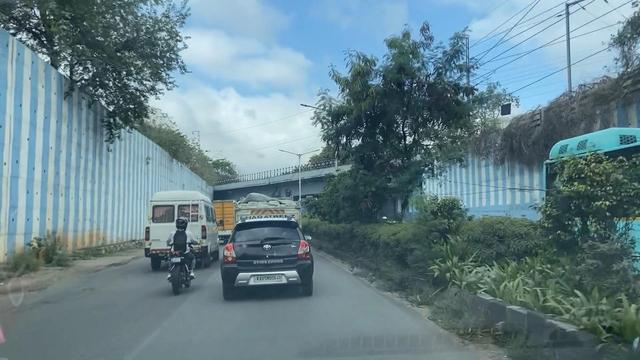HMV: (143, 195, 215, 271)
LMV: (218, 221, 312, 299), (157, 212, 190, 296)
